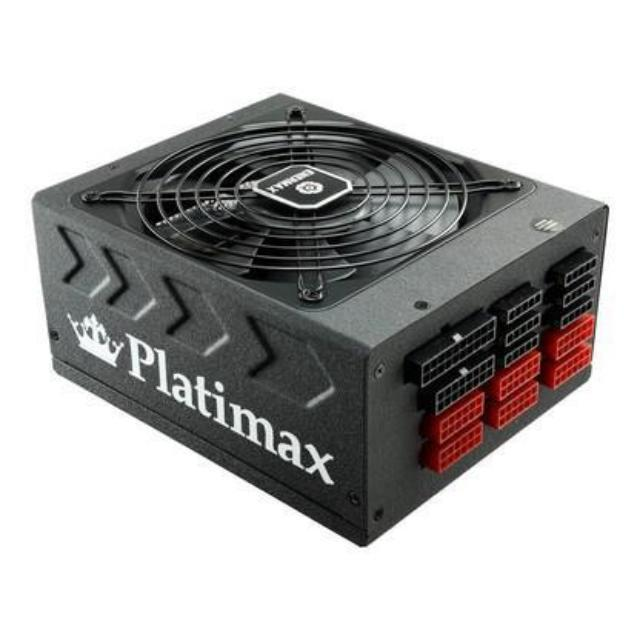PSU: (24, 71, 628, 548)
